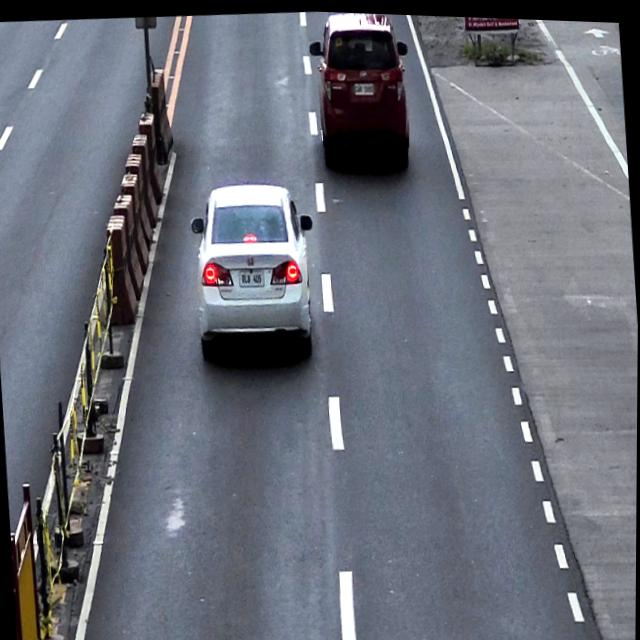Car: (187, 174, 322, 363), (305, 9, 415, 172)
License-Plate: (236, 263, 266, 286), (353, 78, 374, 94)
